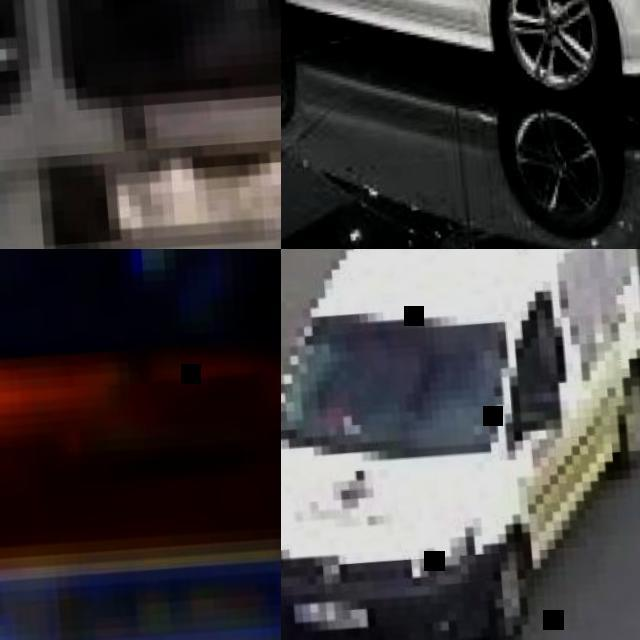car: (284, 253, 635, 639), (287, 0, 639, 234)
